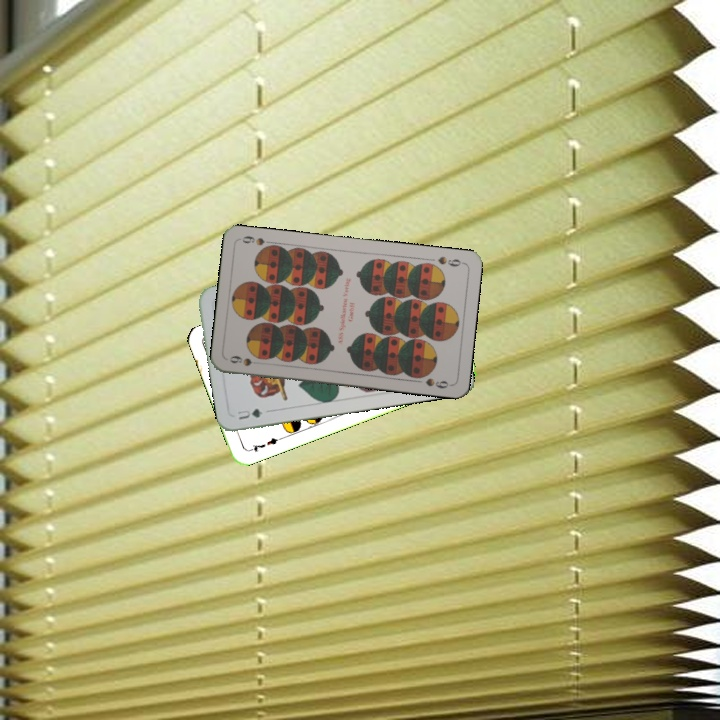E7: (244, 433, 284, 454)
GU: (232, 404, 265, 422)
S9: (225, 352, 263, 368), (434, 252, 466, 269)
